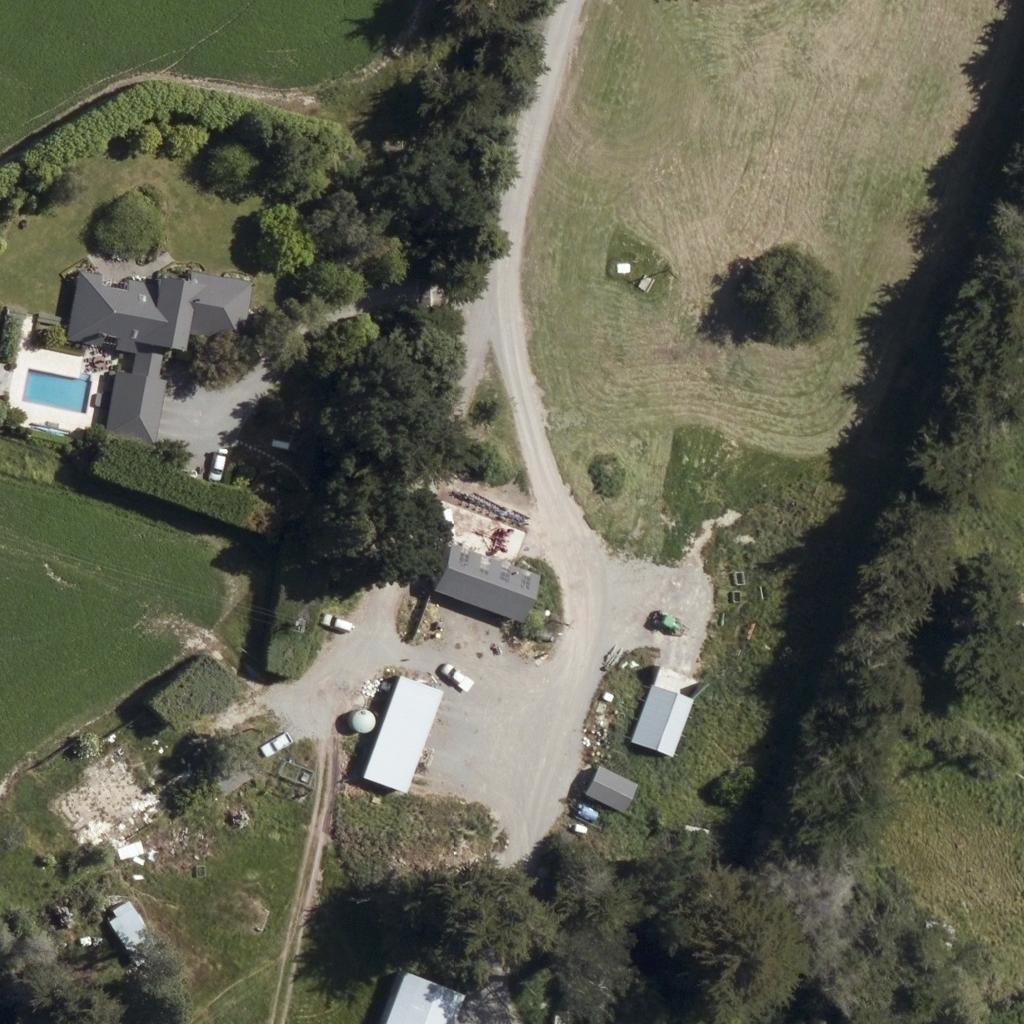car: (201, 447, 235, 481), (320, 605, 354, 639), (437, 657, 471, 691), (259, 727, 293, 761)
